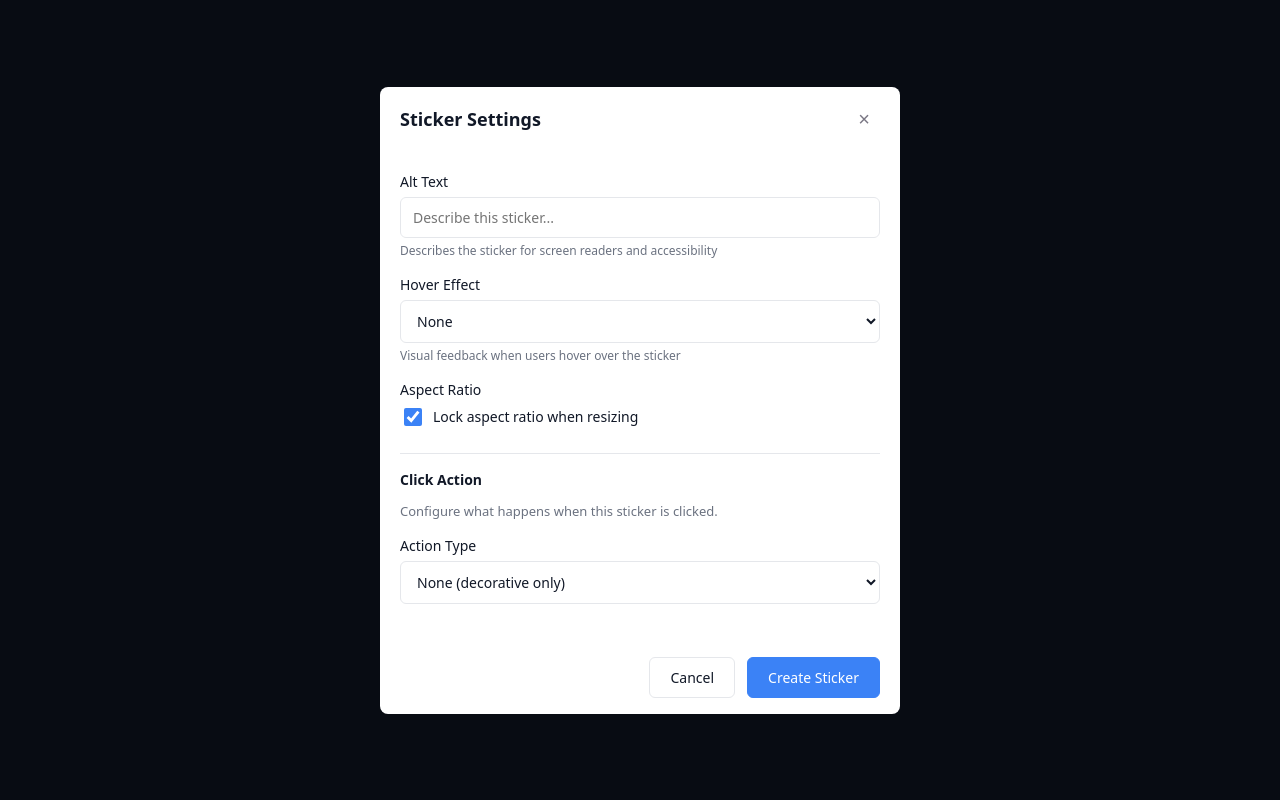
Test: StickerSettingsModal › shows URL fields when open-url action is selected
This screenshot has width=1280, height=800.
Expected: the field labelled "URL" is not shown
// Select 'open-url' action type
Step 1. Select "Open URL" in the dropdown labelled "Action Type" → (640, 582), box [400, 560, 880, 604]
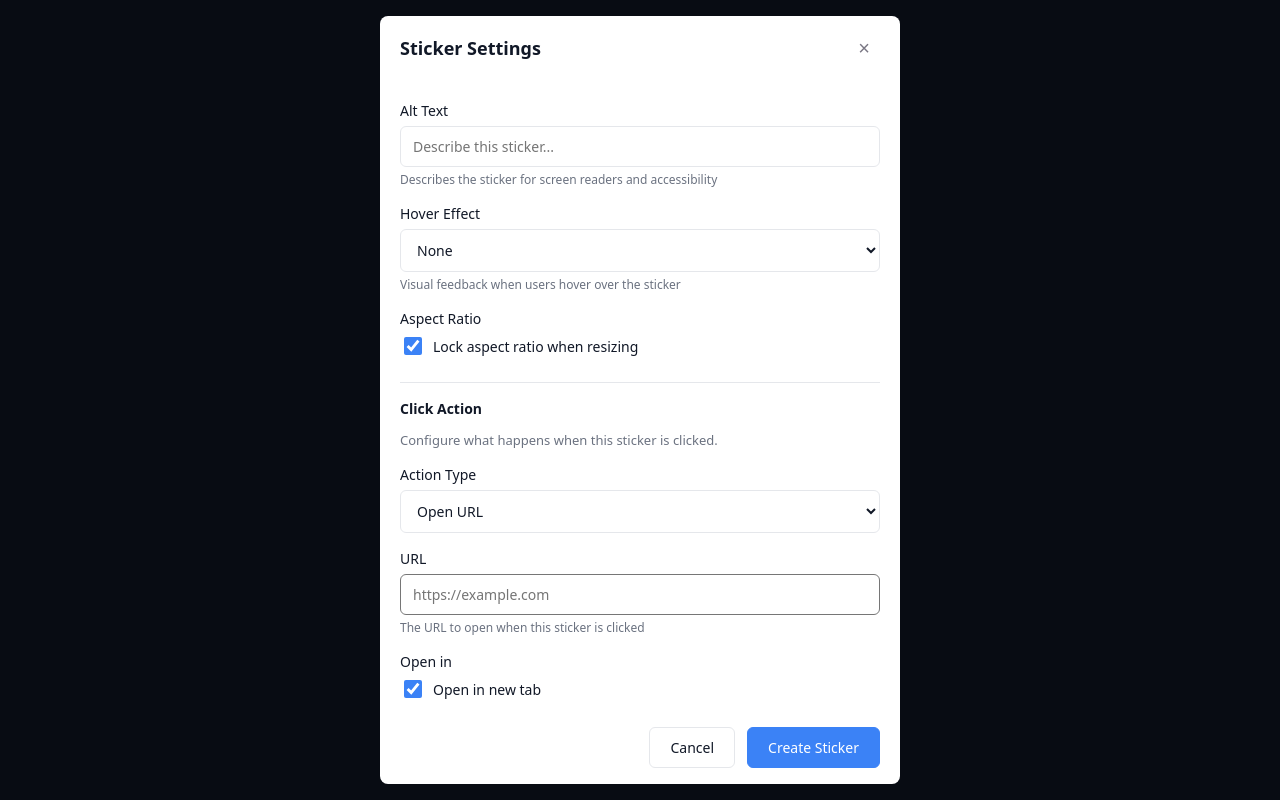
Expected: the field labelled "URL" is shown, [400, 574, 880, 615]
Expected: the checkbox named "Open in new tab" is shown, [404, 680, 422, 698]
